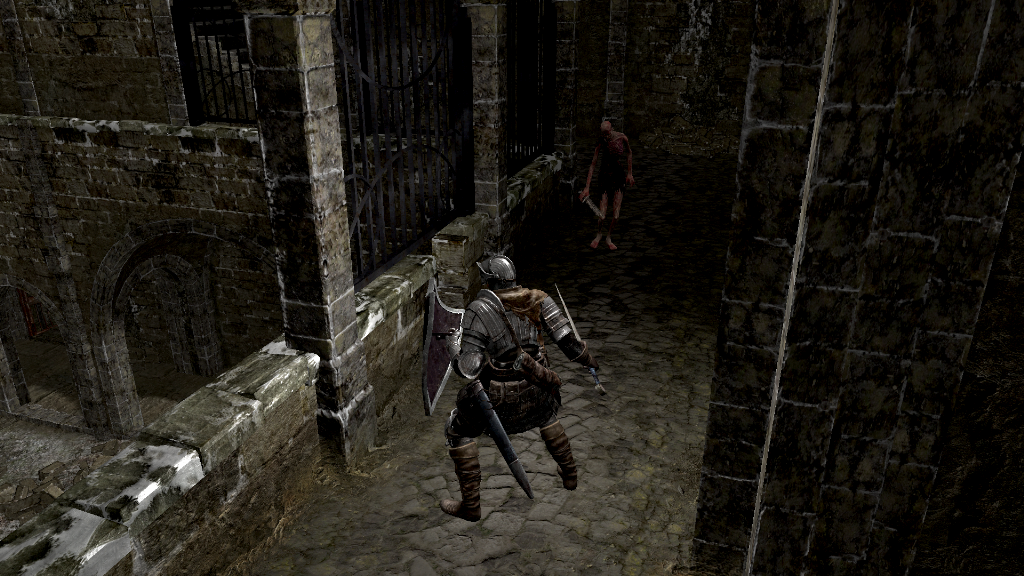hollow: (580, 120, 636, 252)
player: (419, 252, 610, 522)
